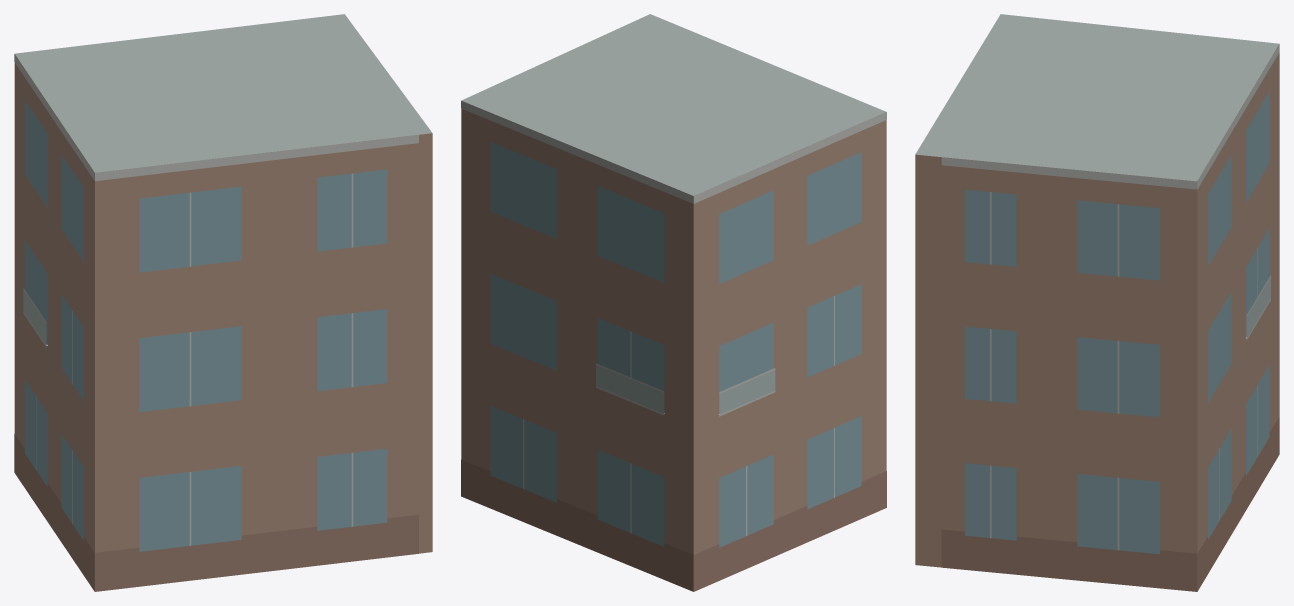
Rendered from survey-upis-32930322.glb.
The picture shows the model from 3 angles, left to right: view 1: azimuth 30°, elevation 25°; view 2: azimuth 150°, elevation 25°; view 3: azimuth 270°, elevation 25°; orthographic projection. The views are drawn at different scales.
Visible parts, largest first — view 1: survey-upis-32930322.tmp; view 2: survey-upis-32930322.tmp; view 3: survey-upis-32930322.tmp.
Boxes of the visible parts, x1=… form: survey-upis-32930322.tmp: x1=14, y1=14, x2=432, y2=591; survey-upis-32930322.tmp: x1=461, y1=14, x2=886, y2=591; survey-upis-32930322.tmp: x1=915, y1=14, x2=1279, y2=591.
Size of the model in its own units: 10.75 by 12.27 by 9.88.
